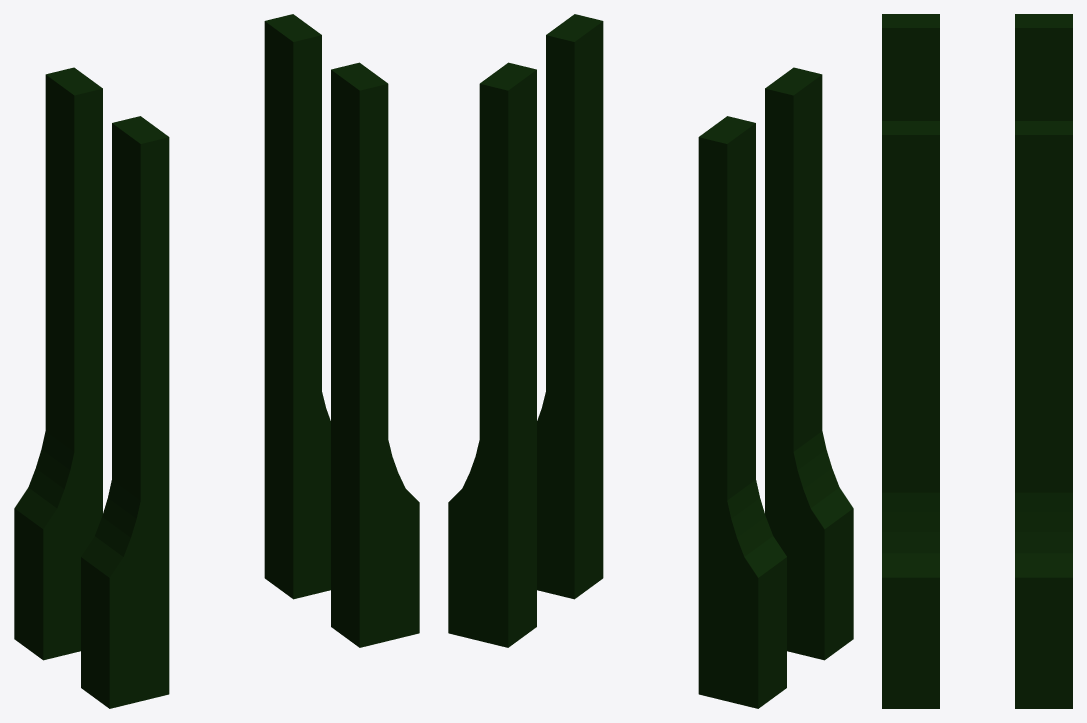
File: square-base-5.fbx
The picture shows the model from 3 angles, left to right: view 1: azimuth 30°, elevation 25°; view 2: azimuth 150°, elevation 25°; view 3: azimuth 270°, elevation 25°; orthographic projection.
Parts seen in each view (by area): view 1: square-base-5; view 2: square-base-5; view 3: square-base-5.
Part boxes in pixels (x1=…): square-base-5: x1=14, y1=14, x2=419, y2=708; square-base-5: x1=448, y1=14, x2=853, y2=708; square-base-5: x1=882, y1=14, x2=1072, y2=708.
Size of the model in its own units: 2.63 by 4.53 by 1.4.
